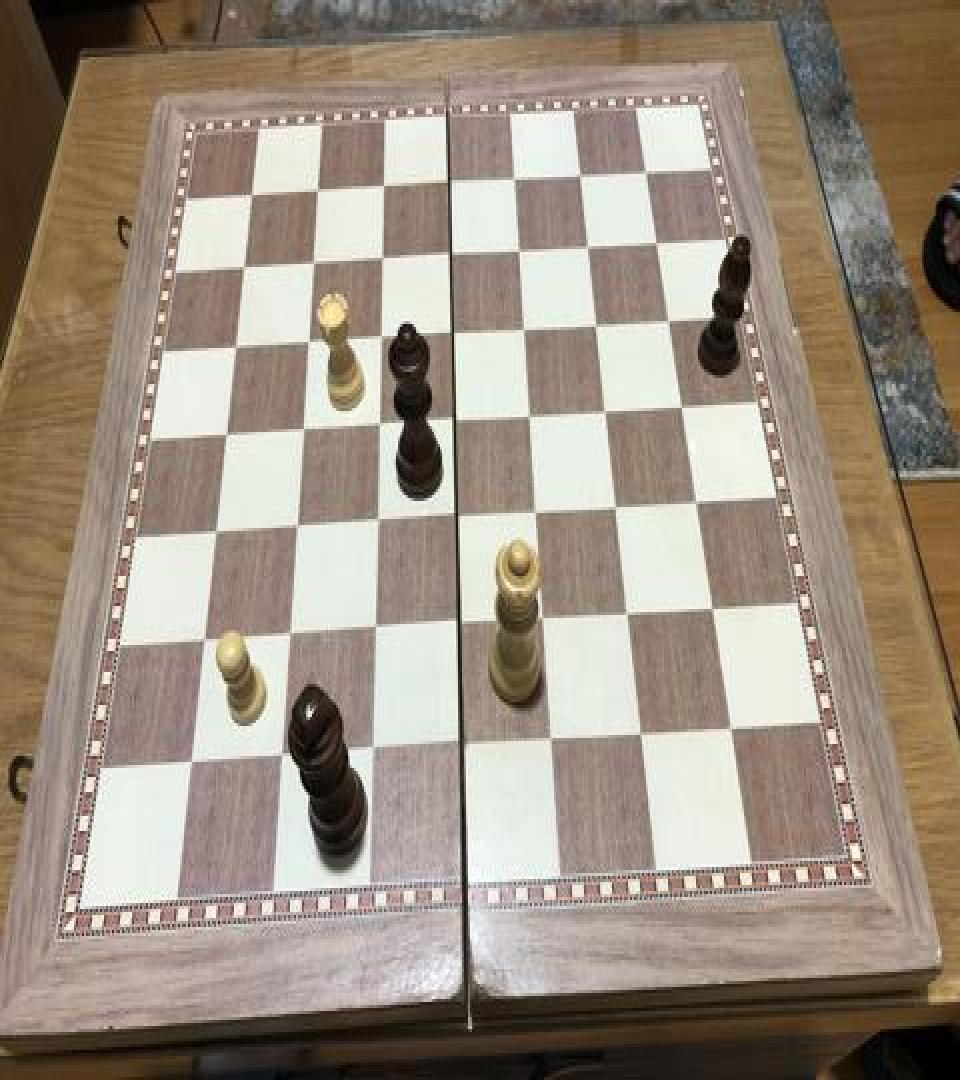xcorner: (194, 622, 218, 659), (631, 718, 655, 755), (634, 156, 658, 192), (569, 159, 593, 195), (504, 162, 528, 198), (439, 165, 463, 201), (374, 170, 398, 206), (243, 176, 267, 212), (645, 226, 669, 262), (577, 230, 601, 266), (509, 234, 533, 270), (441, 237, 465, 273), (372, 242, 396, 278), (304, 244, 328, 280), (235, 248, 259, 284), (657, 304, 681, 340), (586, 308, 610, 344), (514, 312, 538, 348), (442, 315, 466, 351), (371, 320, 395, 356), (299, 324, 323, 360), (227, 327, 251, 363), (670, 390, 694, 426), (595, 394, 619, 430), (520, 399, 544, 435), (444, 402, 468, 438), (369, 406, 393, 442), (293, 411, 317, 447), (217, 416, 241, 452), (685, 486, 709, 522), (606, 490, 630, 526), (526, 495, 550, 531), (446, 500, 470, 536), (366, 504, 390, 540), (286, 508, 310, 544), (206, 513, 230, 549), (701, 592, 725, 628), (617, 598, 641, 634), (533, 603, 557, 639), (449, 608, 473, 644), (364, 612, 388, 648), (279, 618, 303, 654), (720, 714, 744, 750), (541, 724, 565, 760), (451, 729, 475, 765), (361, 735, 385, 771), (271, 741, 295, 777), (181, 746, 205, 782), (309, 173, 333, 208)
